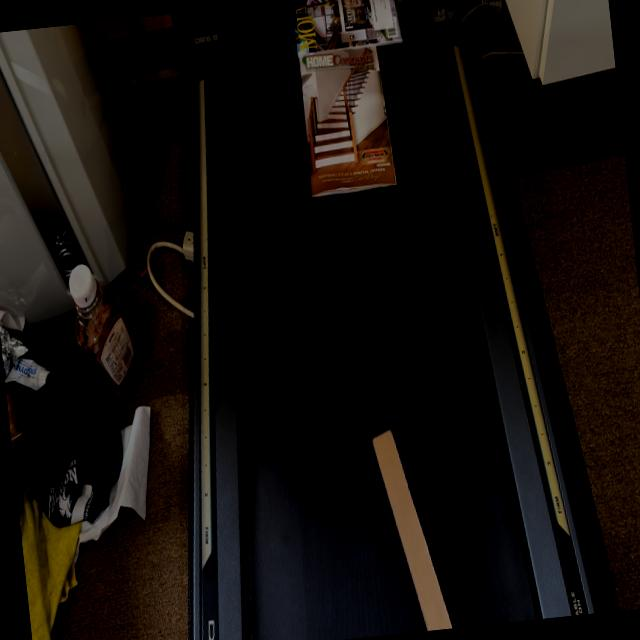Recycle: (276, 2, 426, 210), (360, 394, 460, 620)
